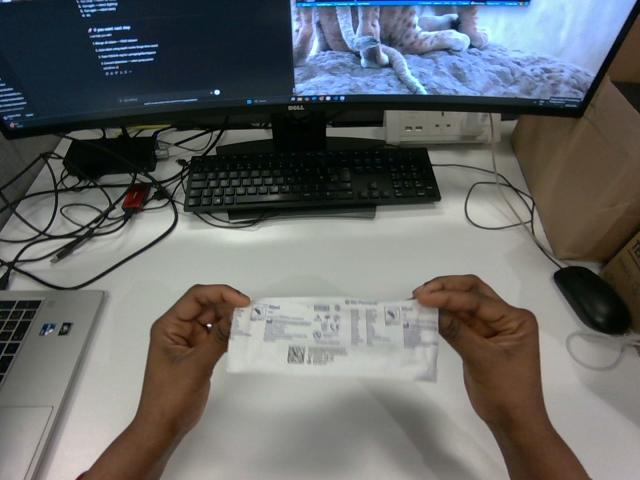syringe: (227, 297, 437, 380)
